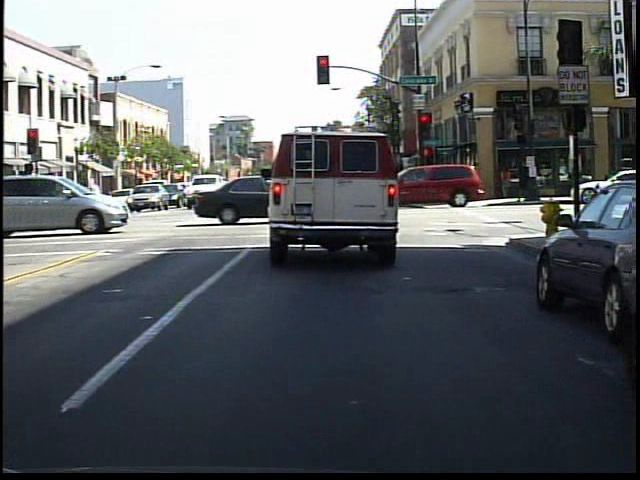person: (514, 156, 533, 205), (495, 158, 515, 200)
